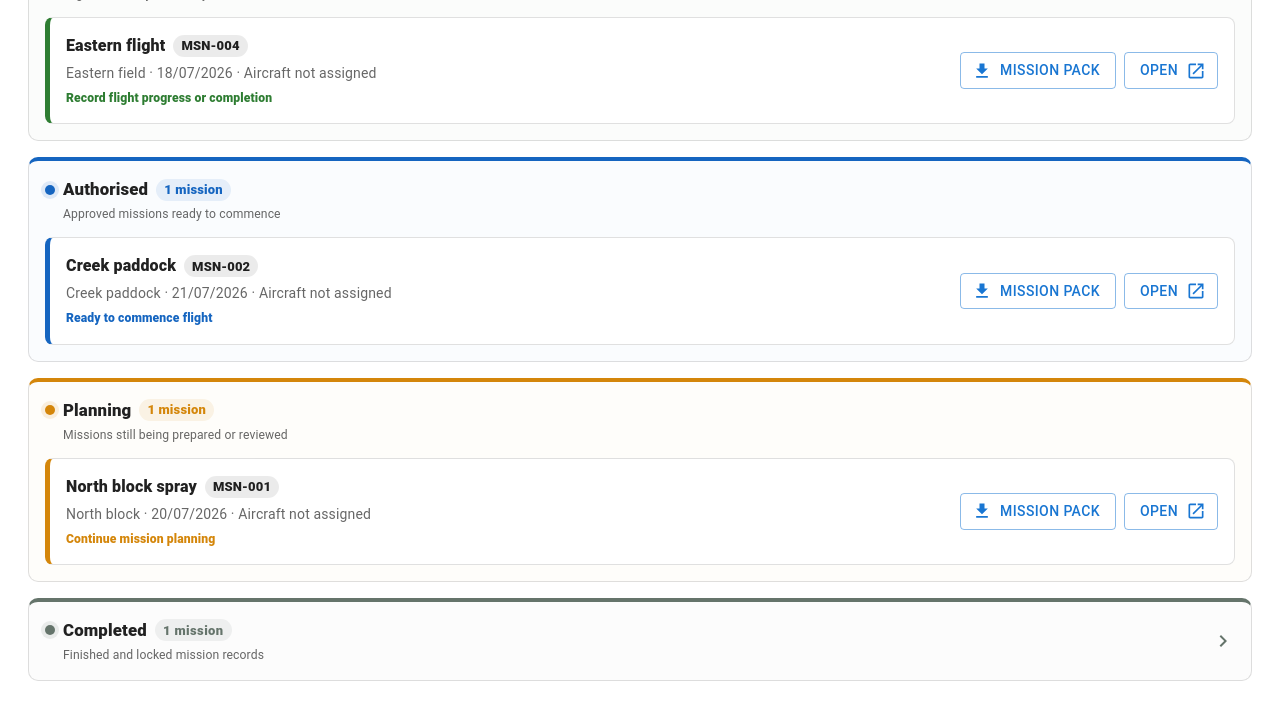
it: MissionRegister › shows an actionable error when mission pack generation fails
The width and height of the screenshot is (1280, 713).
(page scrolled)
Click the button named "Export Mission Pack for North block spray".
click(1038, 511)  # box [960, 493, 1116, 530]
(page scrolled)
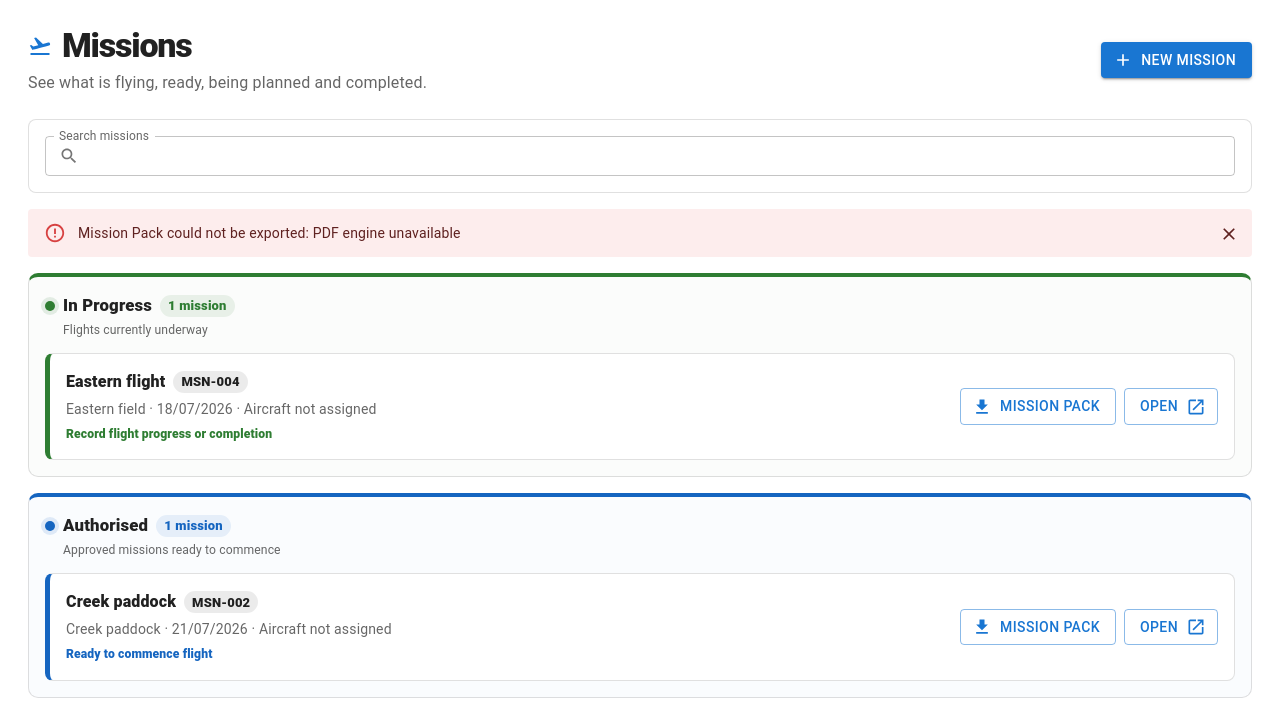
Check: the message reads "Mission Pack could not be exported: PDF engine unavailable", box [78, 225, 461, 241]
